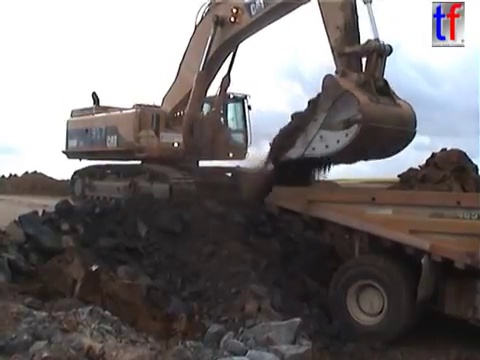excavator: (59, 1, 420, 220)
truck: (258, 178, 480, 352)
